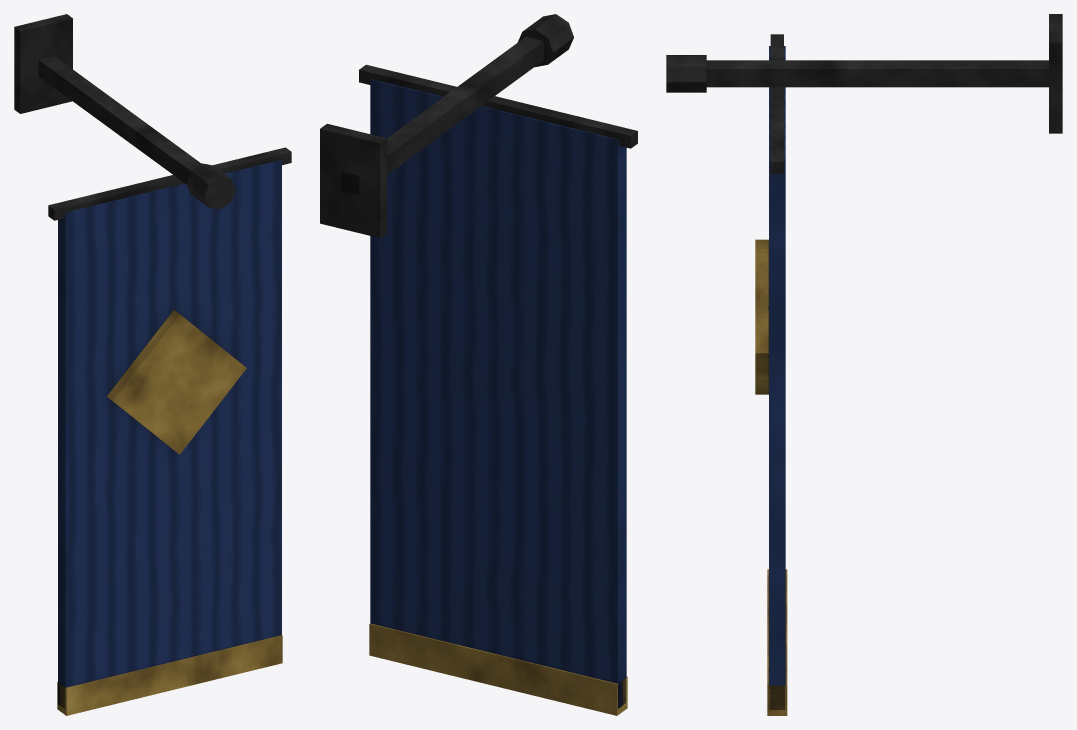
Rendered from siracusa_banner_rossetti.glb.
3 renders of one model, left to right at view 1: azimuth 30°, elevation 25°; view 2: azimuth 150°, elevation 25°; view 3: azimuth 270°, elevation 25°, orthographic. The views are drawn at different scales.
Parts seen in each view (by area): view 1: siracusa_banner_rossetti; view 2: siracusa_banner_rossetti; view 3: siracusa_banner_rossetti.
Part boxes in pixels (left/top/right/bottom): siracusa_banner_rossetti: left=14, top=14, right=291, bottom=715; siracusa_banner_rossetti: left=320, top=14, right=637, bottom=715; siracusa_banner_rossetti: left=666, top=14, right=1062, bottom=715.
Size of the model in its own units: 0.9 by 2.07 by 1.18.
3 materials, 3 textured.
